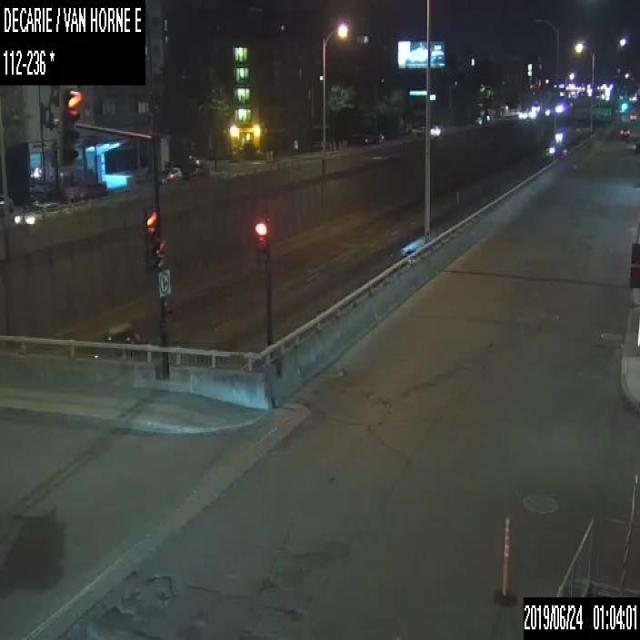construction: (493, 512, 520, 607), (268, 148, 272, 161), (265, 148, 269, 161)
vehicle: (93, 328, 140, 358), (14, 201, 59, 223), (161, 165, 182, 182), (618, 125, 630, 137), (628, 110, 638, 120)
